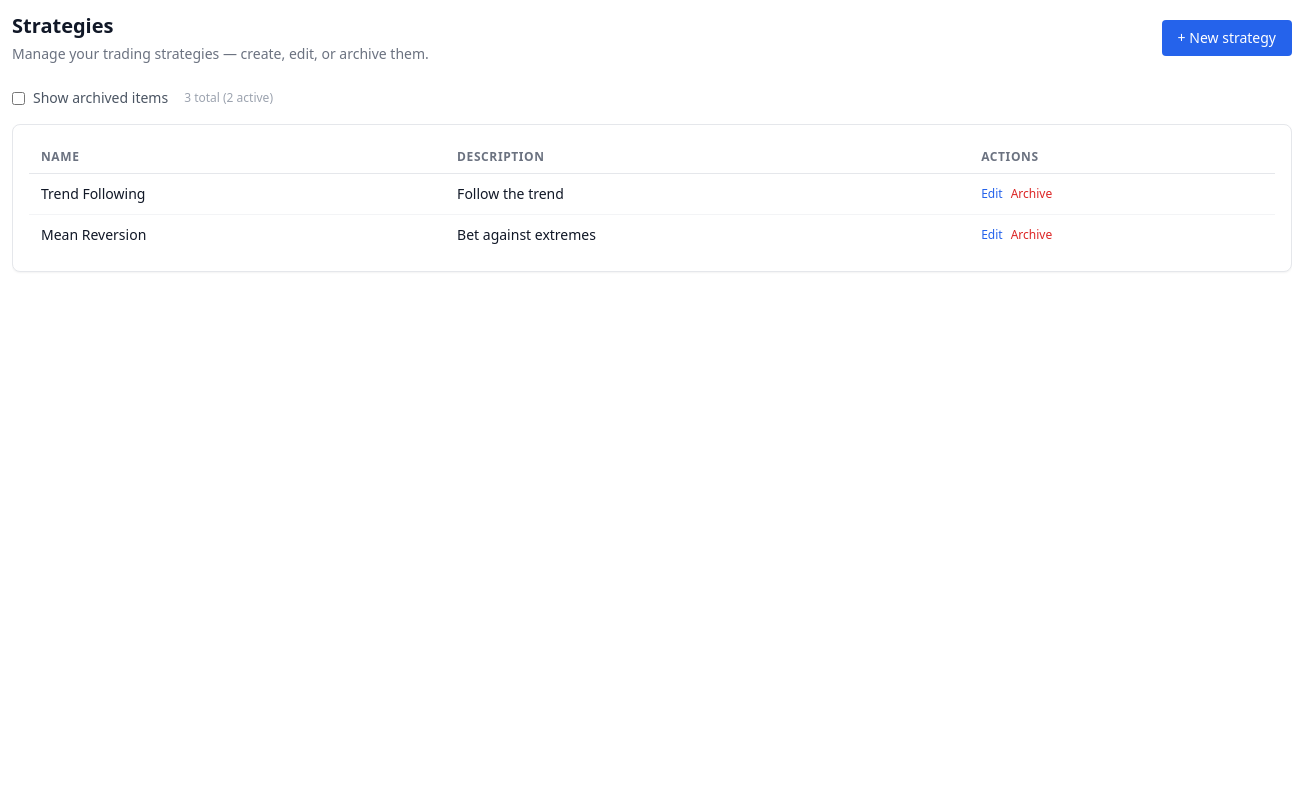
it: CatalogAdmin — F2: Create/edit form submits correct payload › shows error message on failed submission
The image size is (1304, 812).
Click the button "+ New strategy". click: [1227, 38]
box: [1162, 20, 1292, 56]
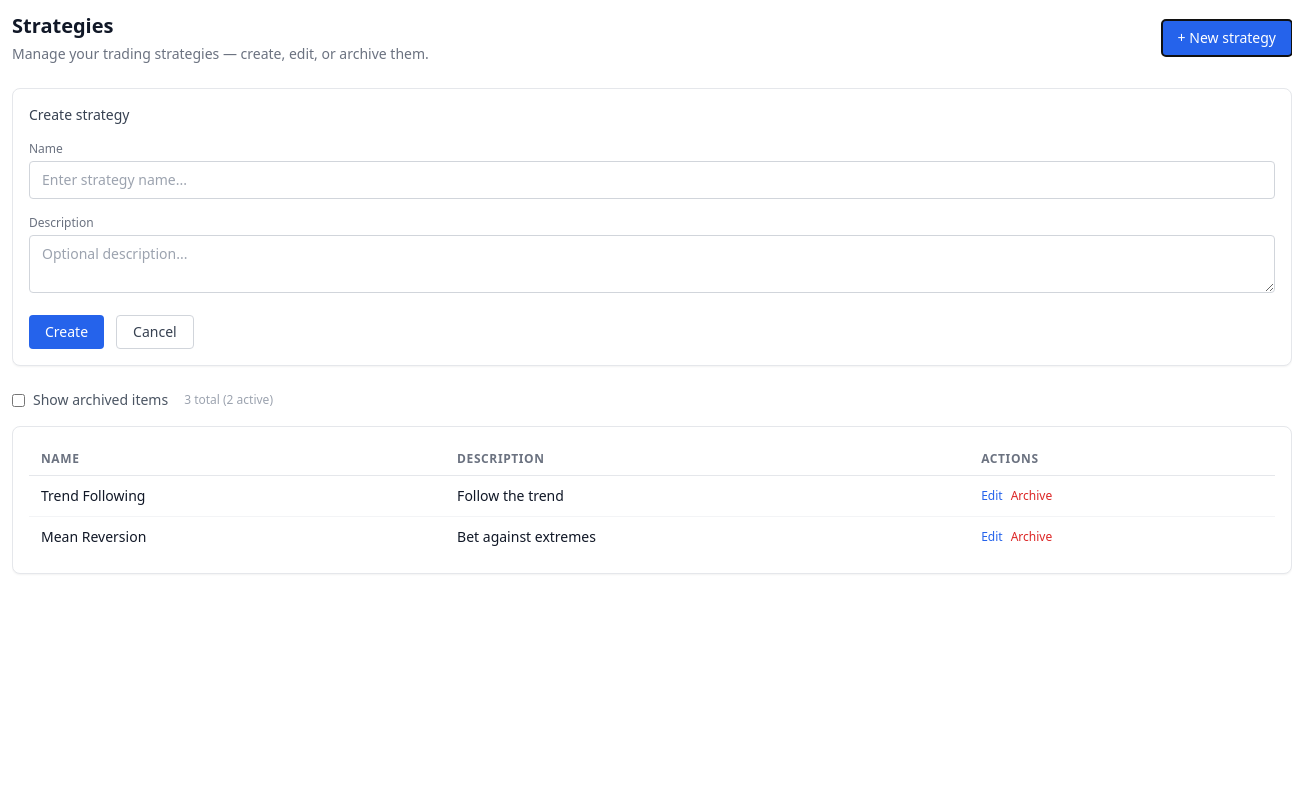
Type "Duplicate" into the field with placeholder "Enter strategy name...". click: [652, 180]
box: [29, 161, 1275, 199]
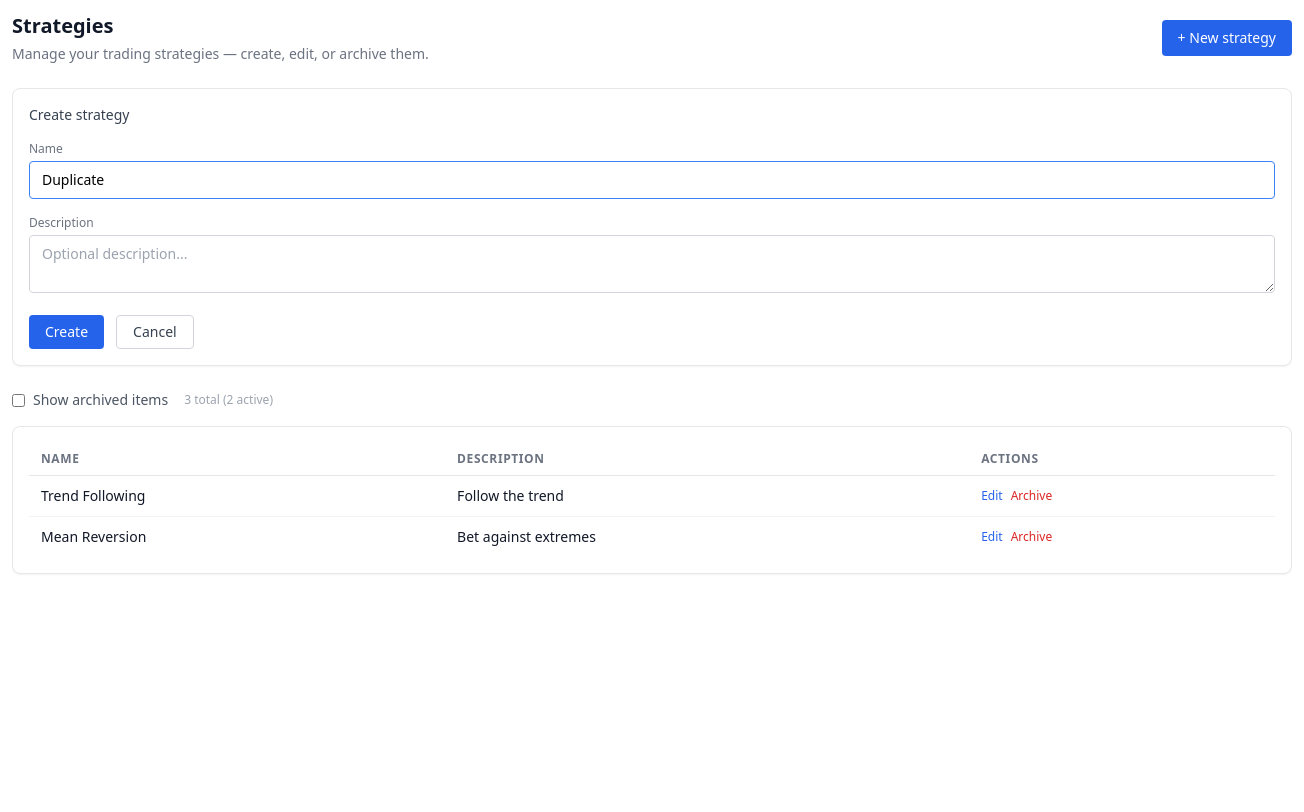
Click the button "Create". click: [67, 332]
box: [29, 315, 104, 349]
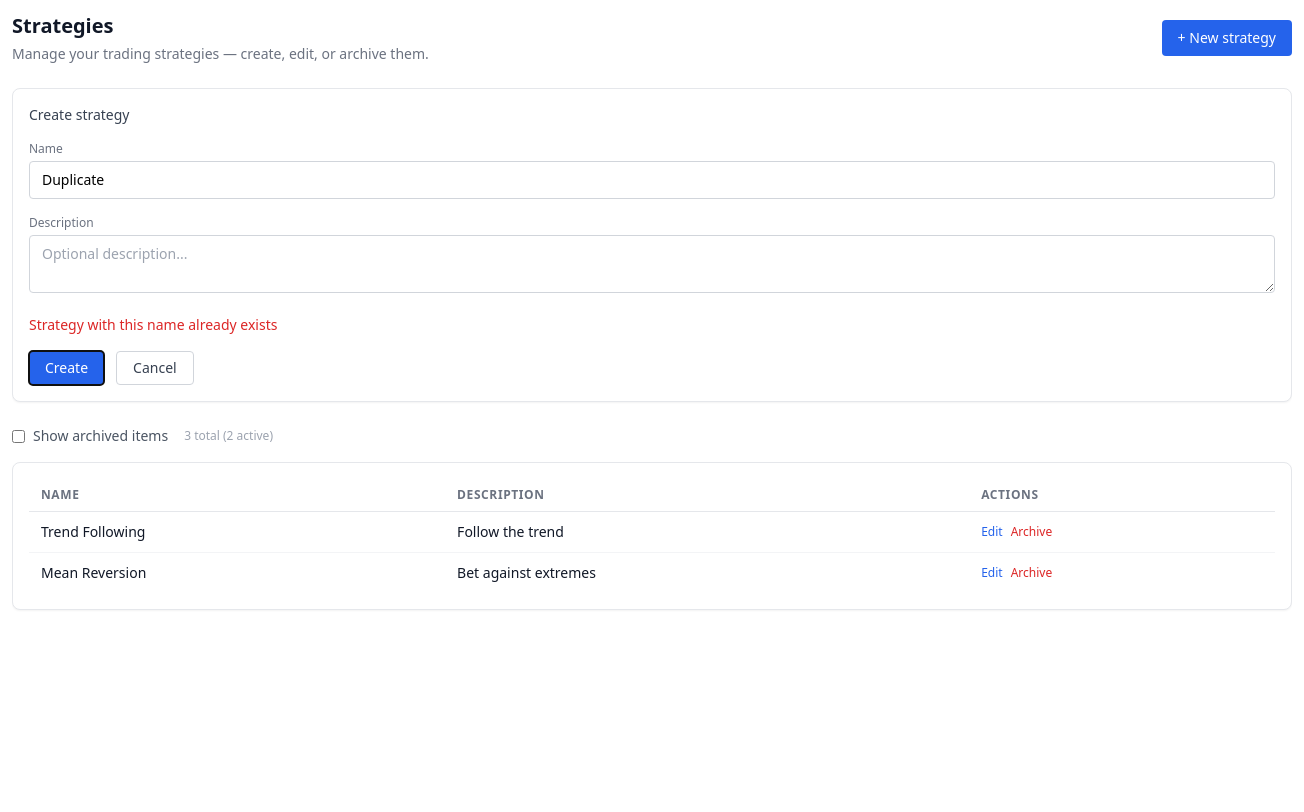
Result: the text "Strategy with this name already exists" is shown at [29, 315, 277, 334]
